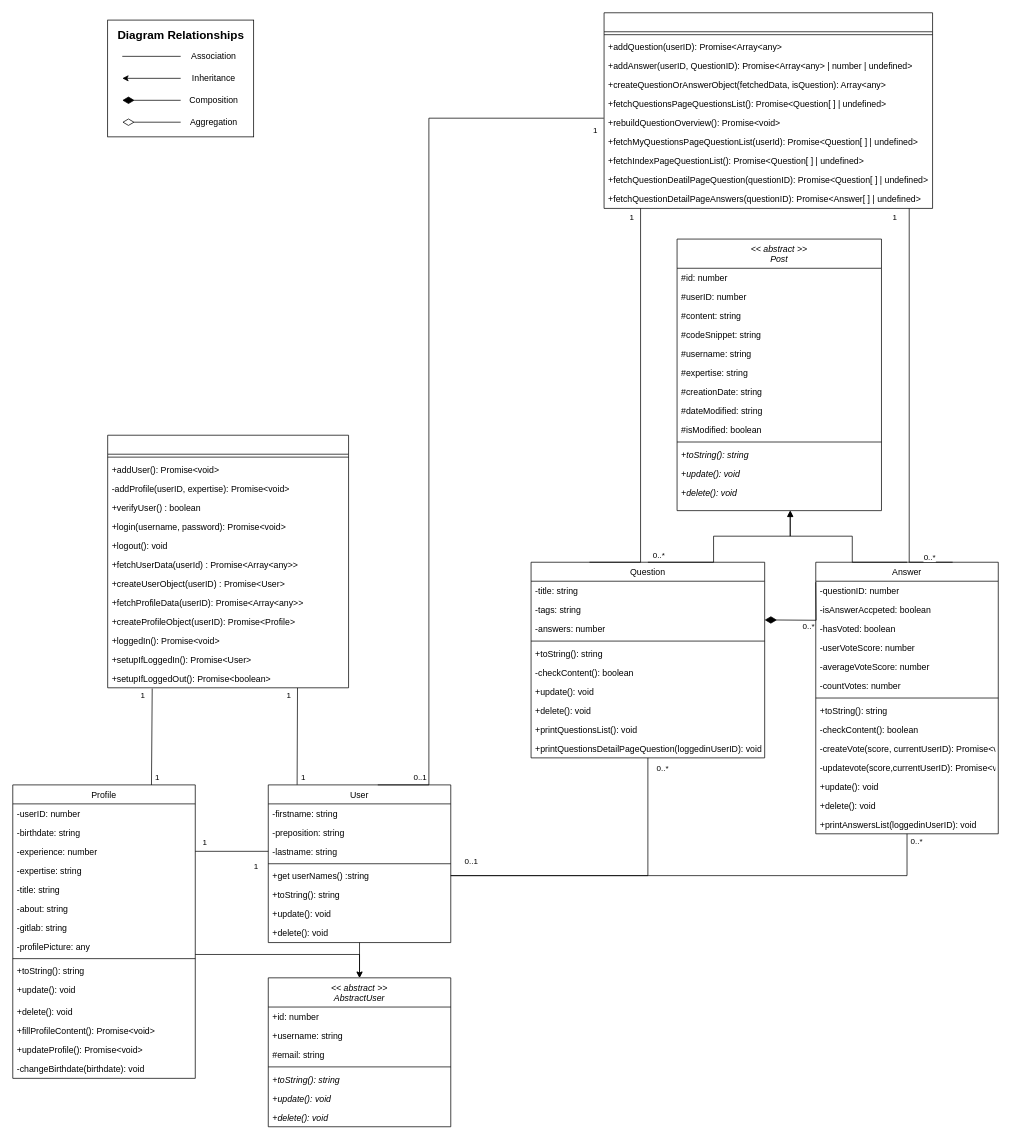
This 1026x1142 diagram has some shape labels left out. The shapes that lost their labels are listed below. From the top down, each one's box as (x1, y1, x2, y2) in pixels, then its label:
(603, 12, 933, 208): PostManager
(107, 434, 349, 688): UserManager
